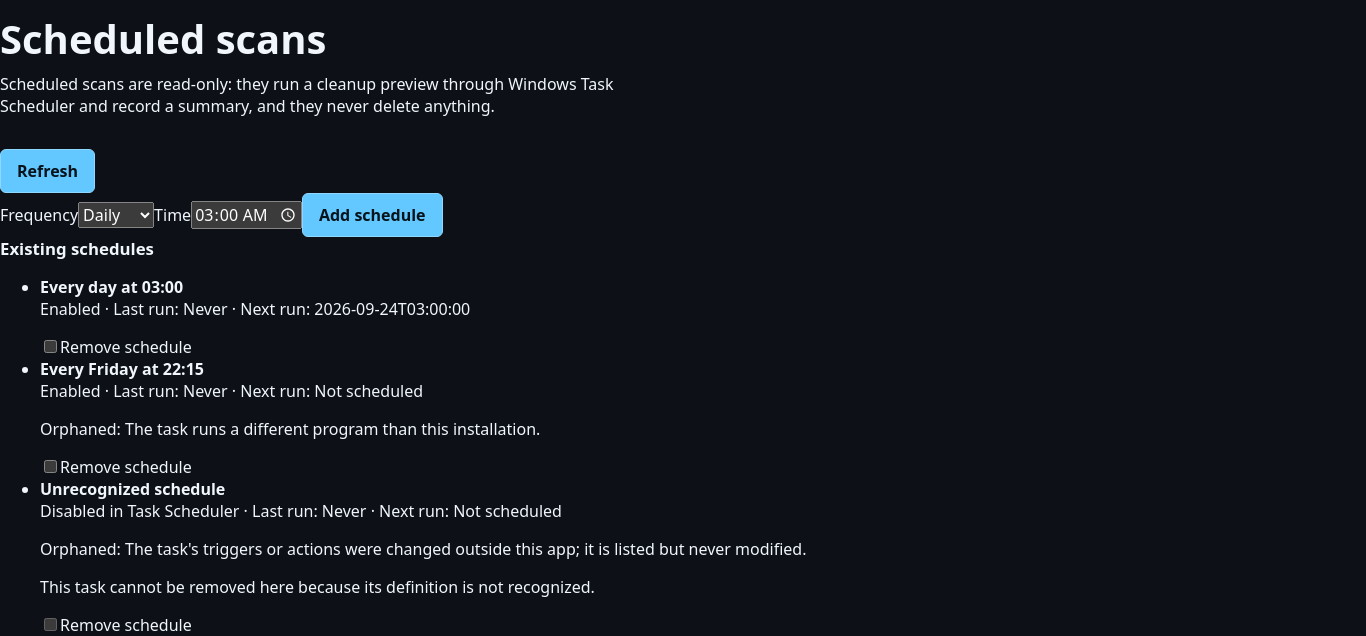
Scenario: removes exactly the selected schedule id
The image size is (1366, 636).
Expected: the text "Every day at 03:00" is shown, x1=40 y1=276 x2=183 y2=298
Step 1. Click the checkbox labelled "Remove schedule" below "Every day at 03:00" → (50, 346), box x1=44 y1=340 x2=57 y2=353
(page scrolled)
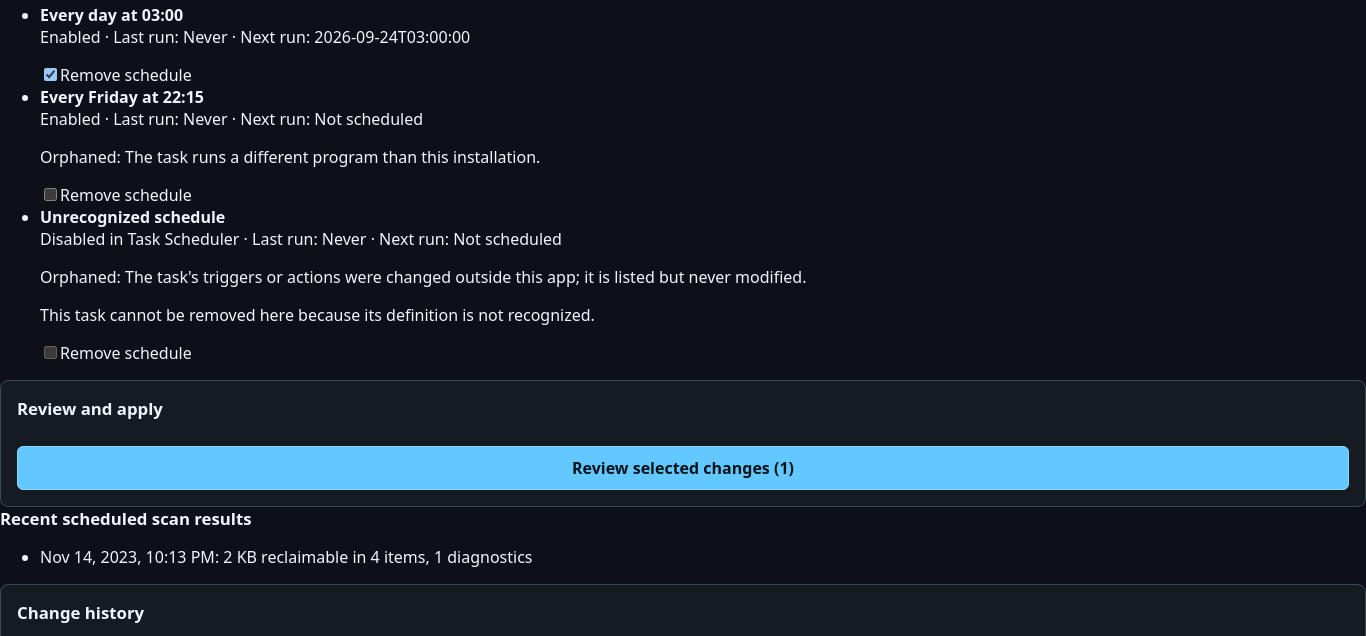
Step 2. Click the button "Review selected changes (1)" → (683, 468), box x1=17 y1=446 x2=1349 y2=490
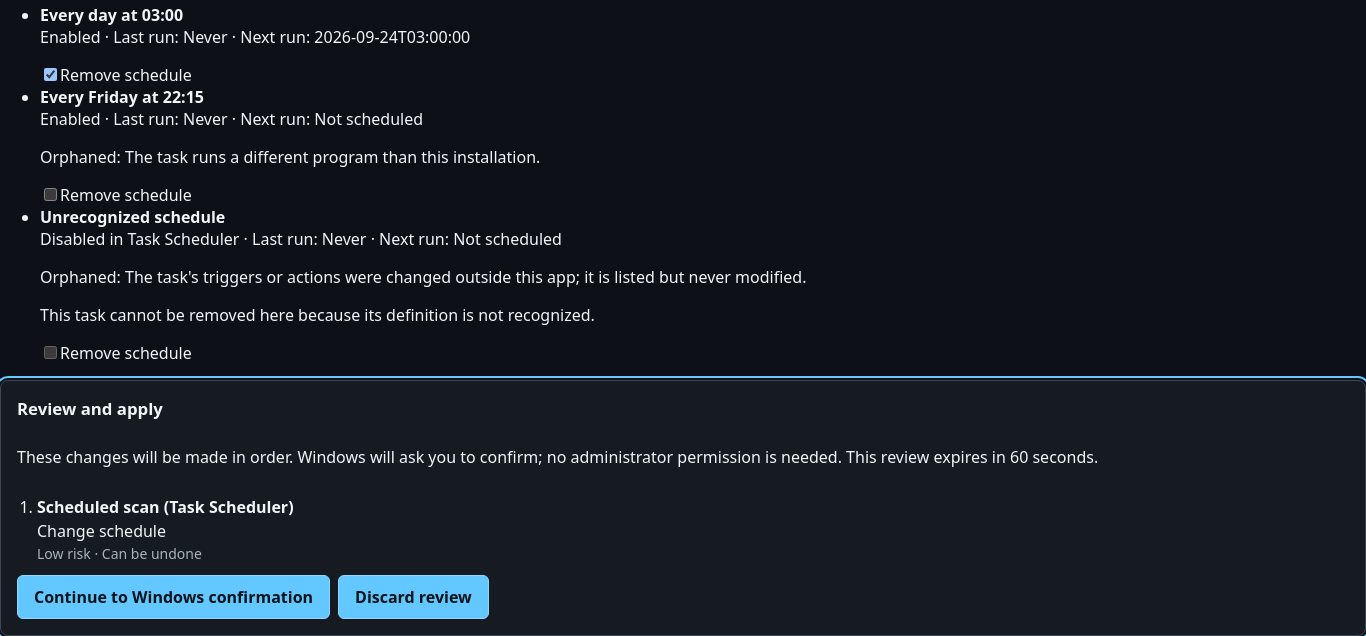
Expected: the button "Continue to Windows confirmation" is shown, x1=17 y1=575 x2=330 y2=619
